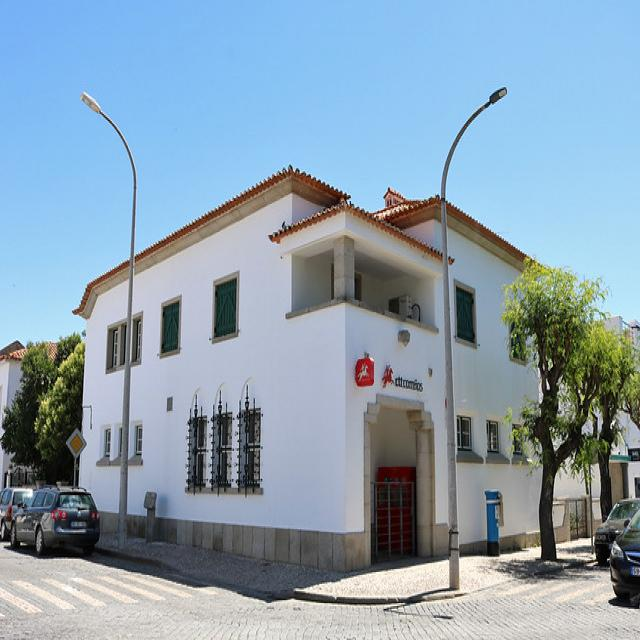Normal_building: (70, 157, 592, 578)
